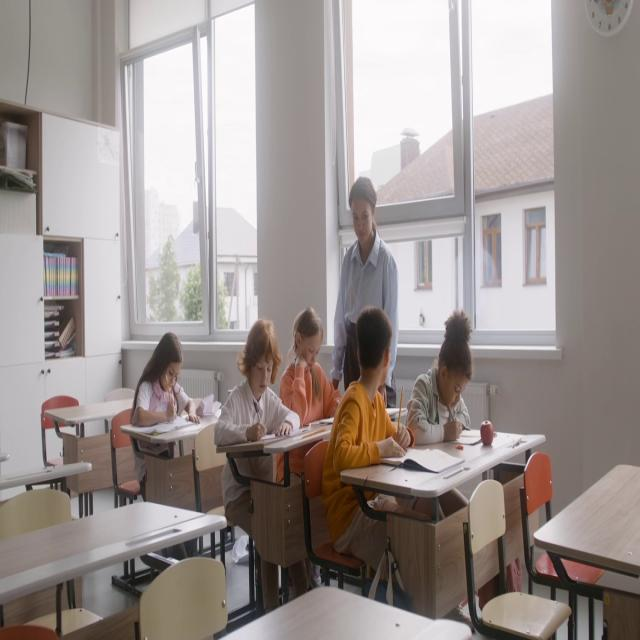reading: (284, 308, 340, 470)
turning: (326, 306, 425, 612)
writing: (215, 320, 302, 612), (130, 333, 202, 485), (406, 310, 474, 444)
